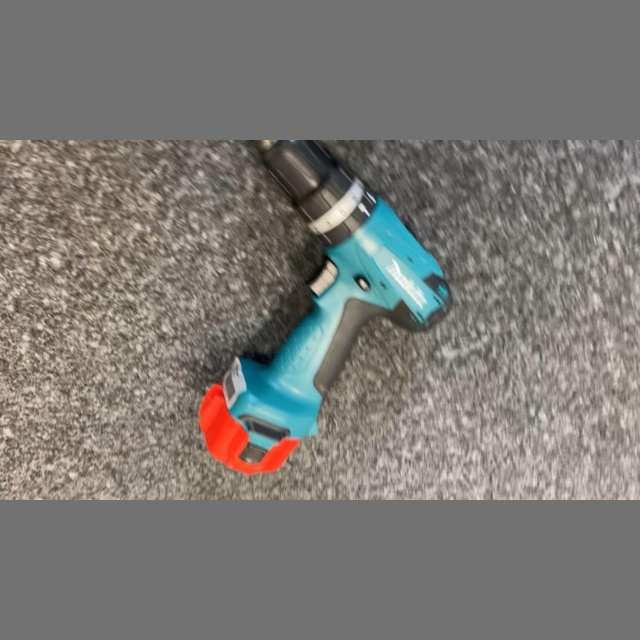drill: (188, 140, 464, 481)
